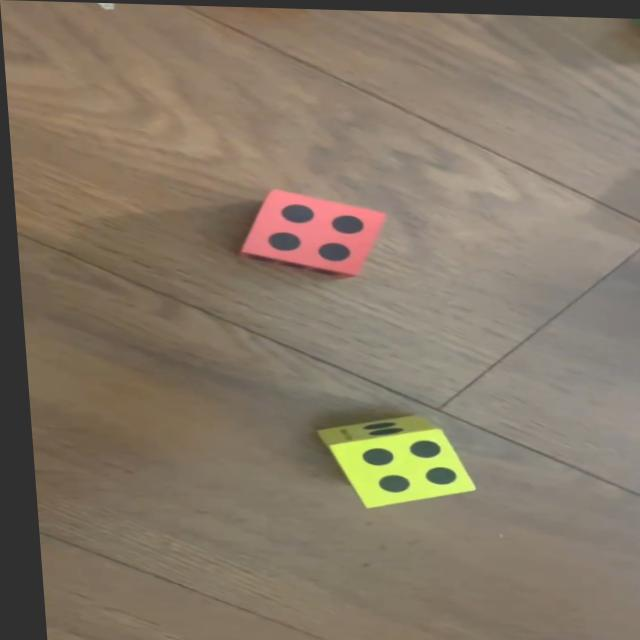cube: (234, 187, 389, 276)
